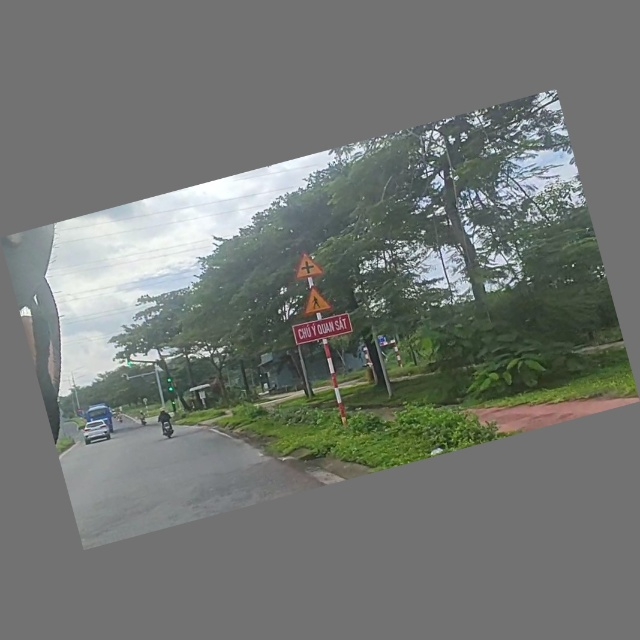W.205a: (287, 247, 328, 284)
W.224: (296, 281, 337, 319)
